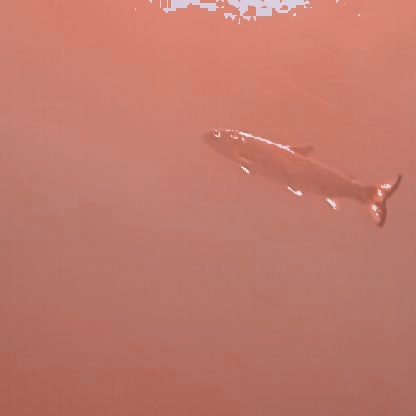salmon: (194, 123, 404, 231)
